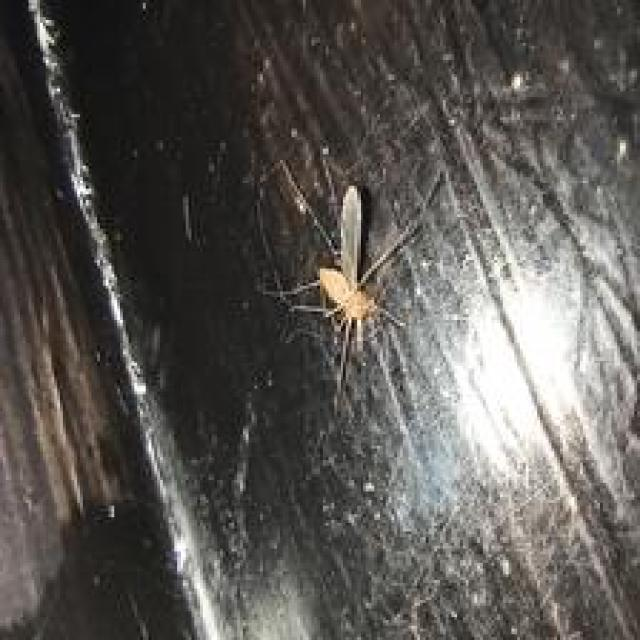Culex: (256, 158, 447, 416)
